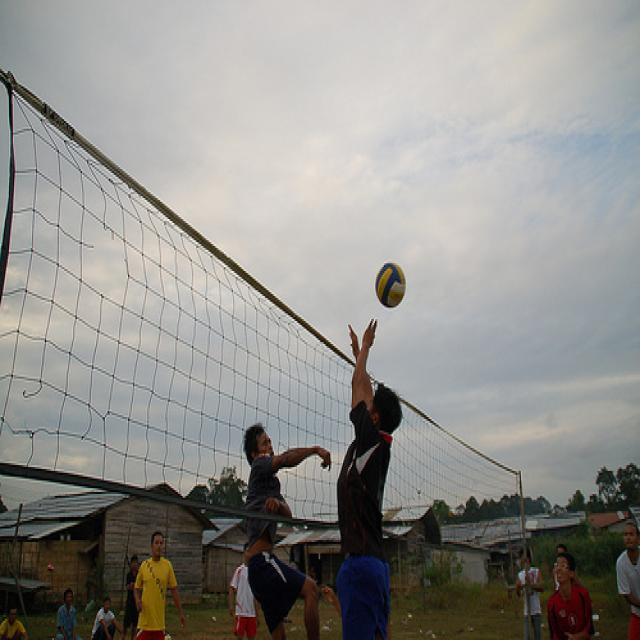volleyball: (374, 262, 406, 308)
